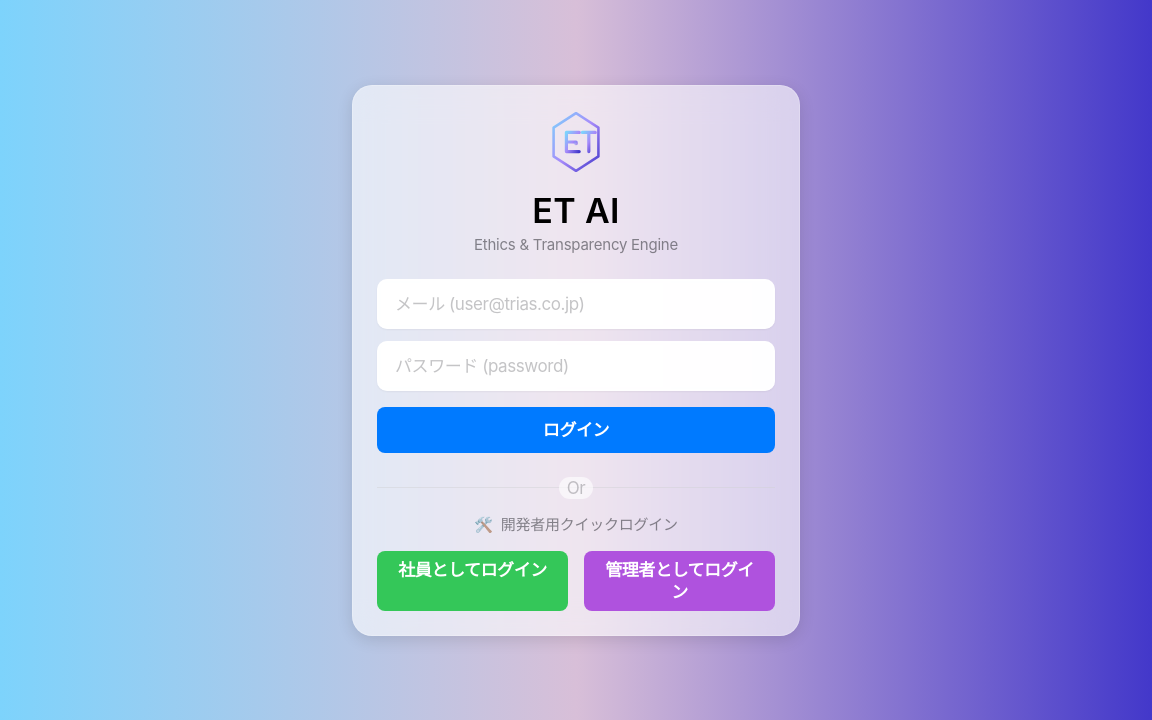
Scenario: Auth Component - User Authentication Experience › Error Handling - Specification: Users should see errors for invalid credentials › should display error with accessible role alert
The width and height of the screenshot is (1152, 720).
Step 1. Type "invalid@example.com" into the field with placeholder "メール (user@trias.co.jp)" → (576, 304), box x1=377 y1=278 x2=775 y2=328
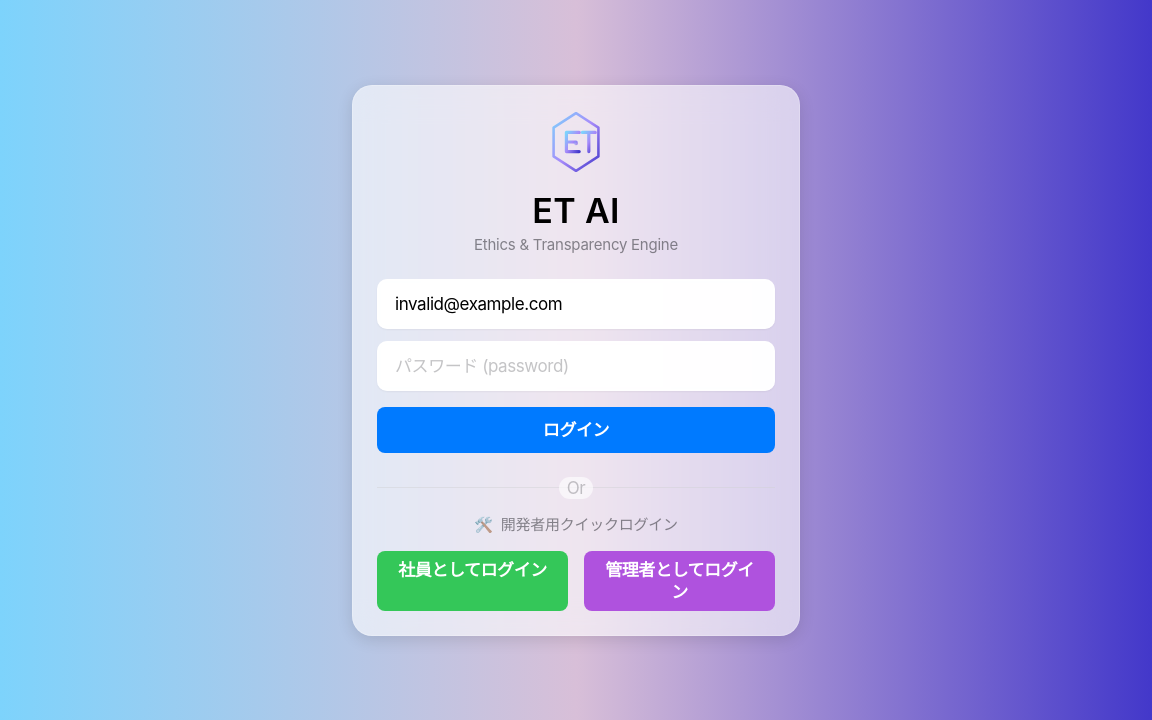
Step 2. Type "password" into the password field with placeholder "パスワード (password)" → (576, 366), box x1=377 y1=340 x2=775 y2=390
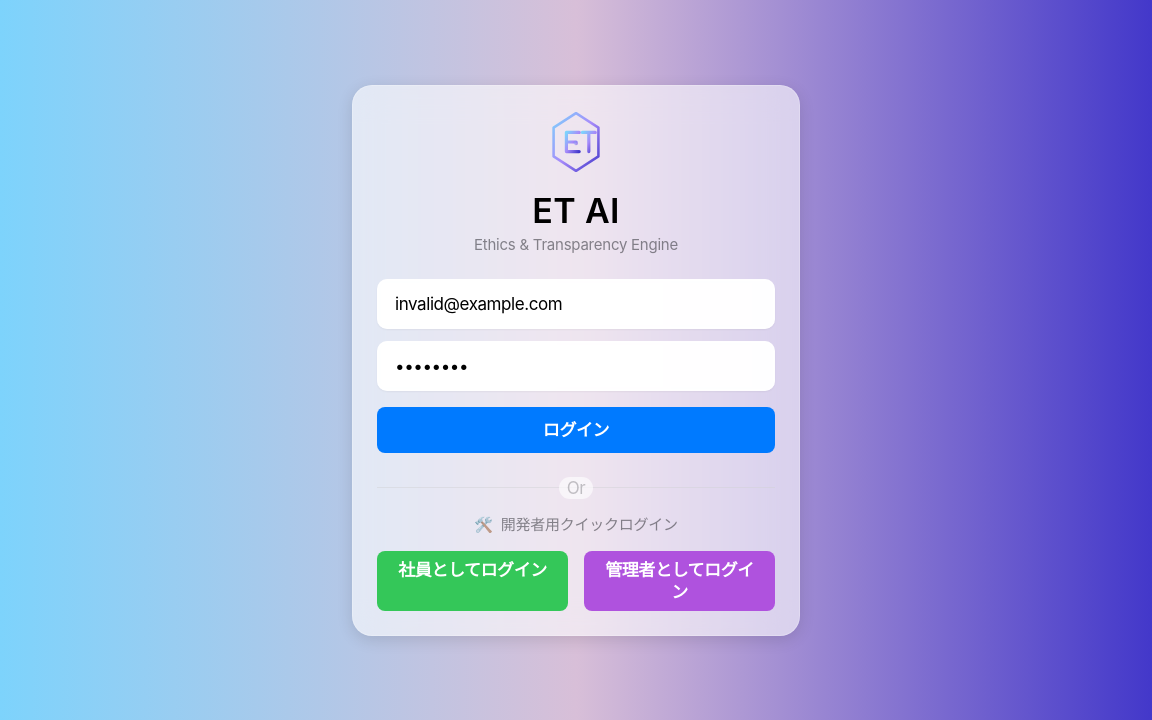
Step 3. Click the button "ログイン" → (576, 430), box x1=377 y1=406 x2=775 y2=452
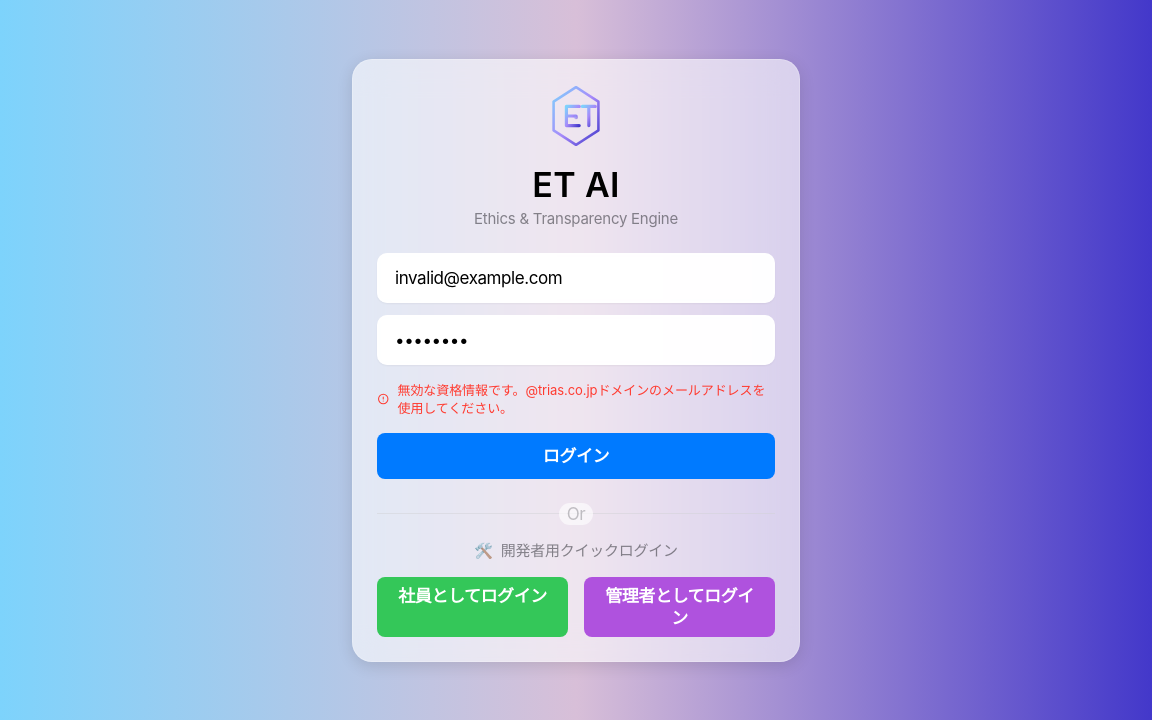
Expected: the message "無効な資格情報です。@trias.co.jpドメインのメールアドレスを使用してください。" is shown, x1=377 y1=380 x2=775 y2=416
Expected: the message shows "無効な資格情報", x1=398 y1=382 x2=765 y2=416
